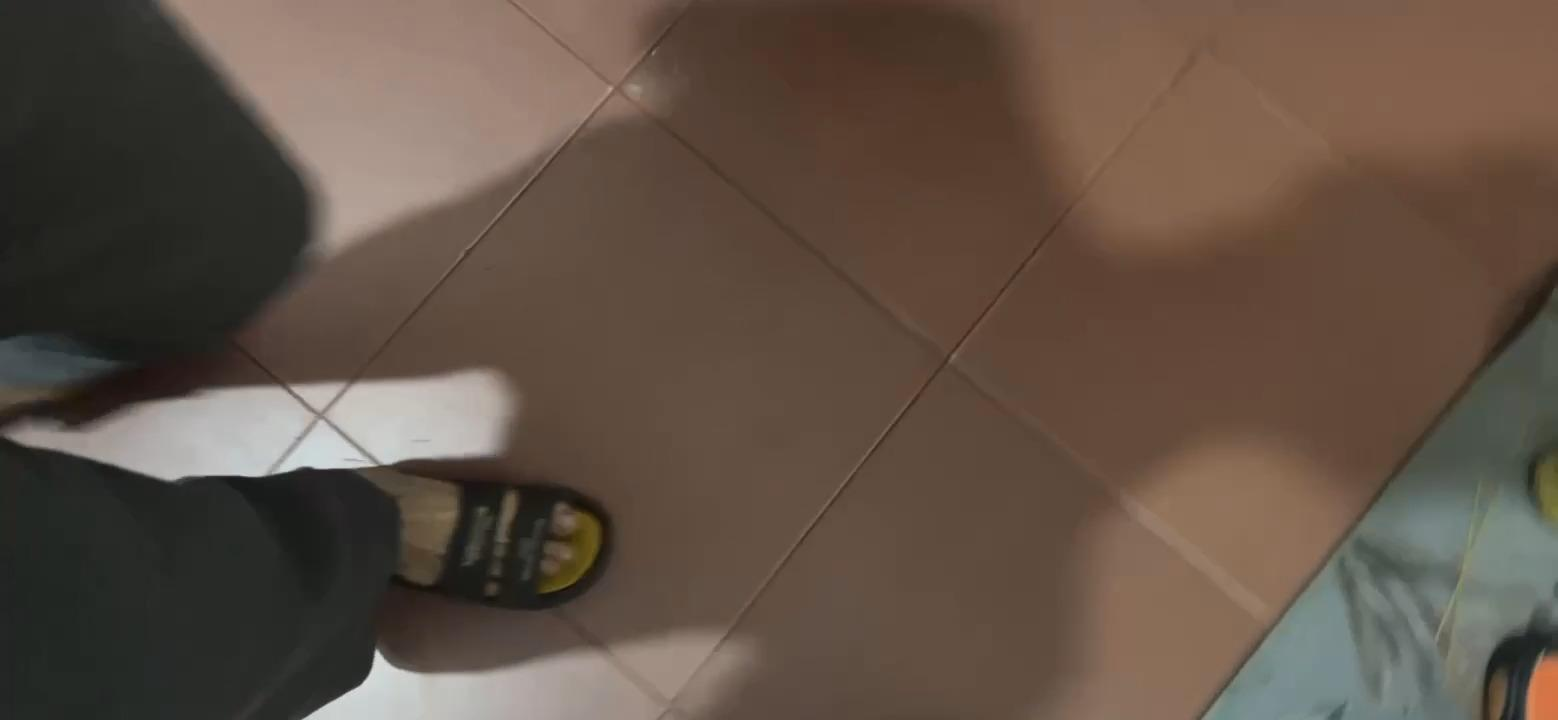no-boot: (327, 447, 637, 616)
